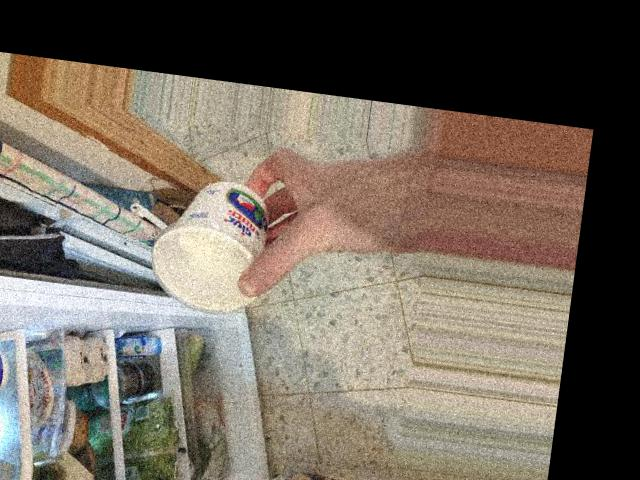cotage: (155, 174, 277, 315)
